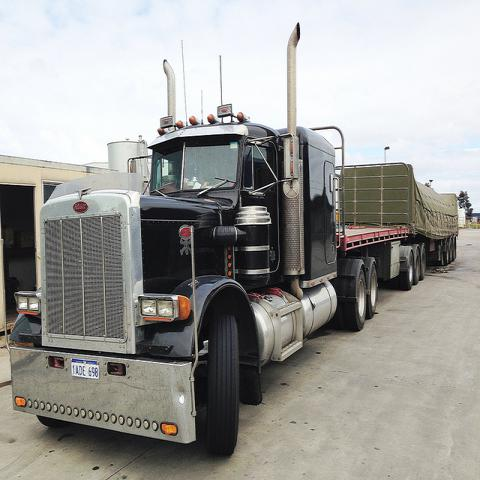truck: (12, 23, 459, 458)
